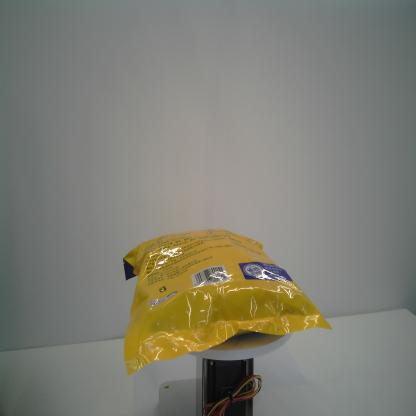Dried Food: (121, 227, 333, 375)
